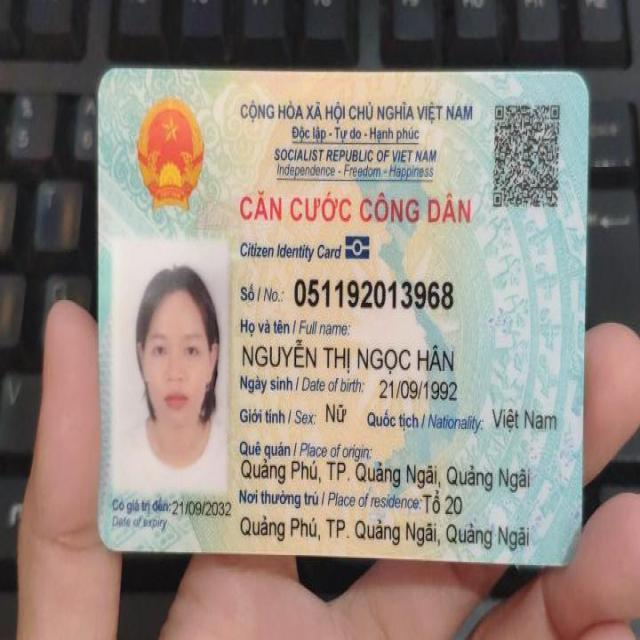bottom_left: (88, 524, 128, 562)
bottom_right: (552, 526, 590, 578)
image_person: (118, 232, 234, 500)
top_left: (88, 60, 130, 101)
top_right: (557, 63, 597, 99)
